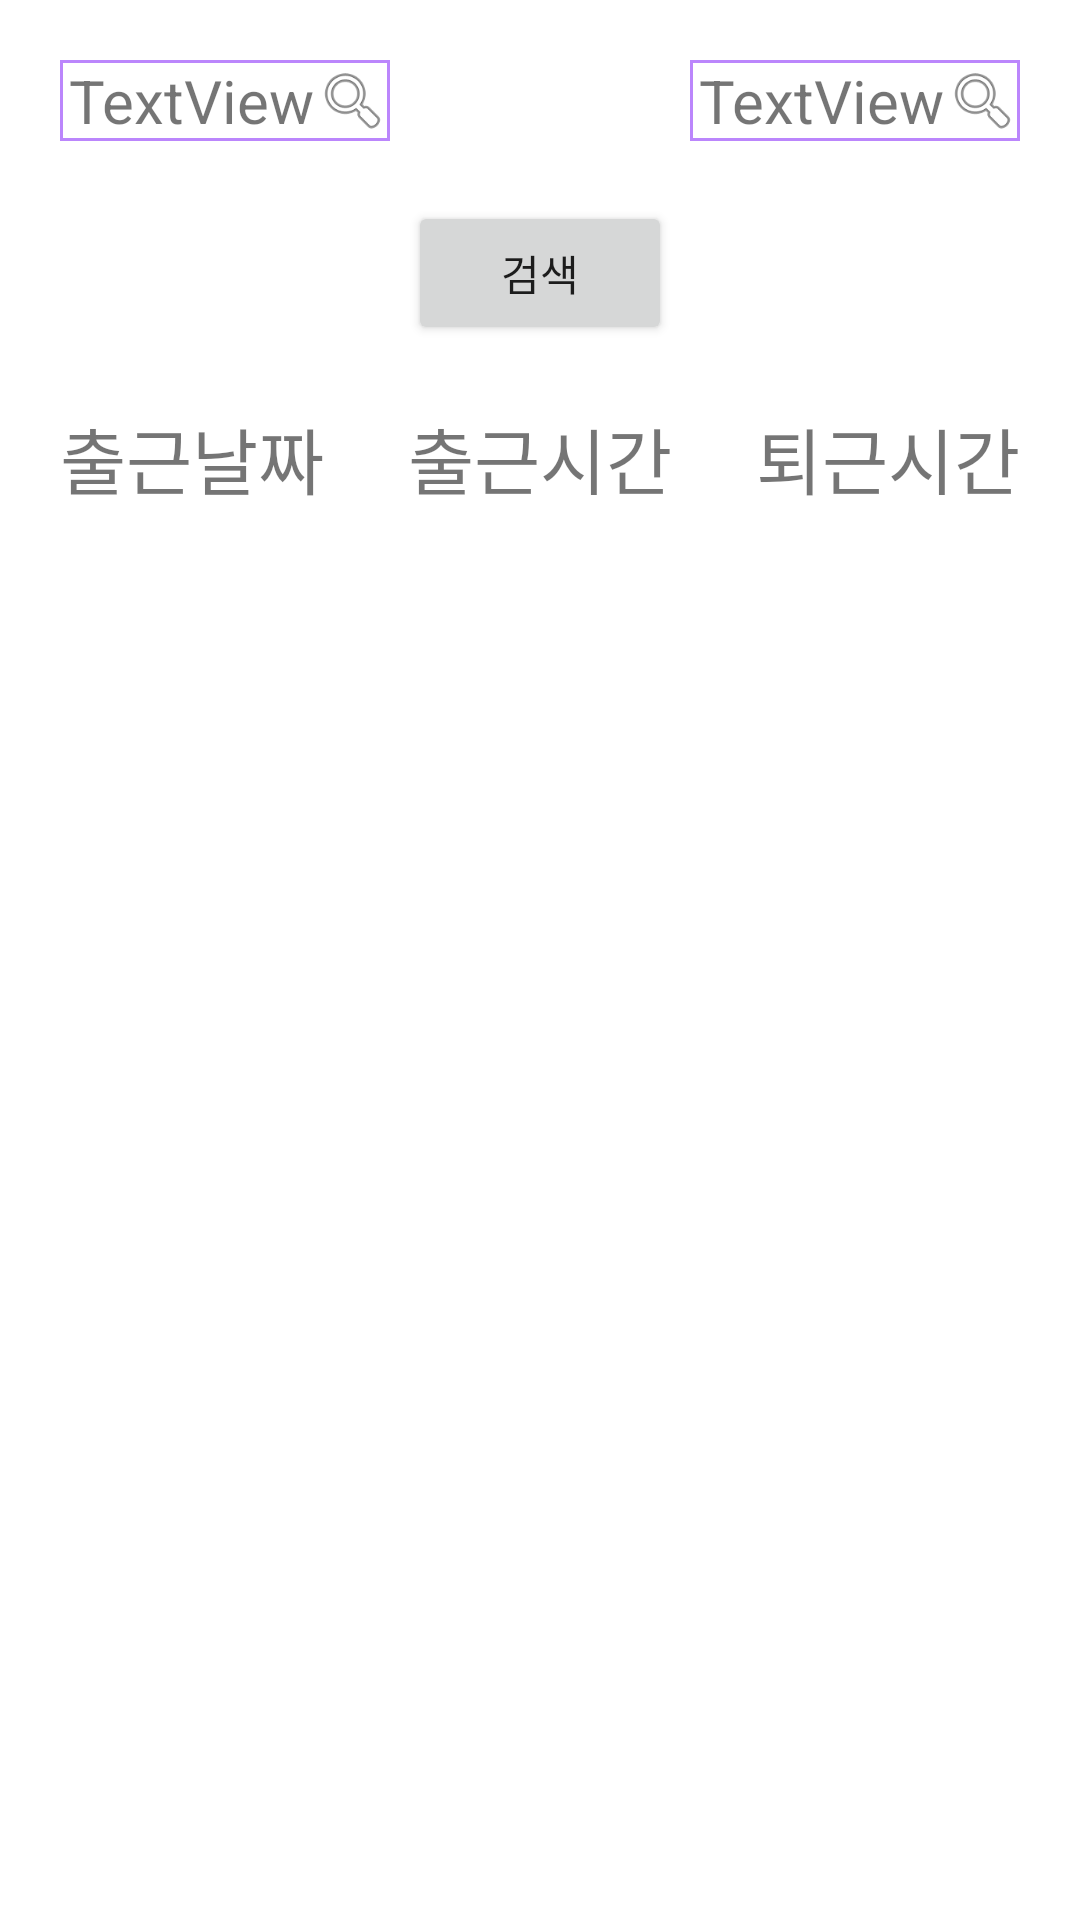

Icon click points for this 1080px×1920px phone screenshot, format (x,y):
search: (352,101), (982,101)
